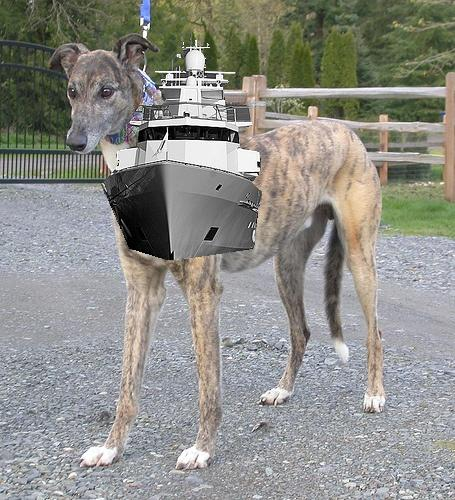tampered: (102, 31, 262, 260)
